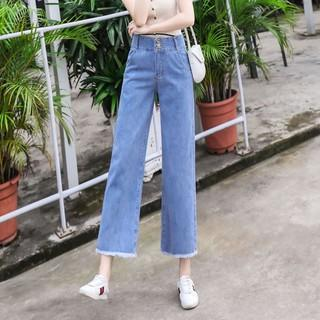pants: (98, 28, 201, 260)
